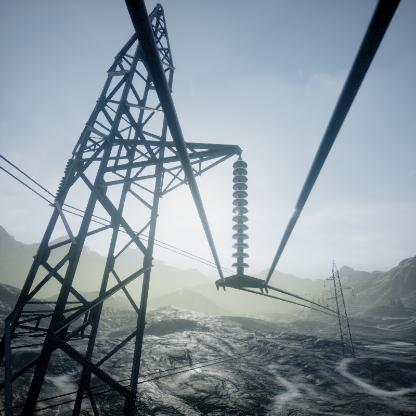insulator: (232, 157, 250, 274)
tower: (323, 263, 360, 356)
